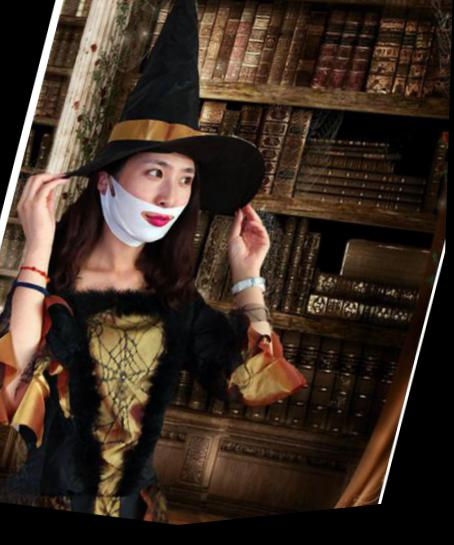WRONG: (107, 151, 205, 253)
